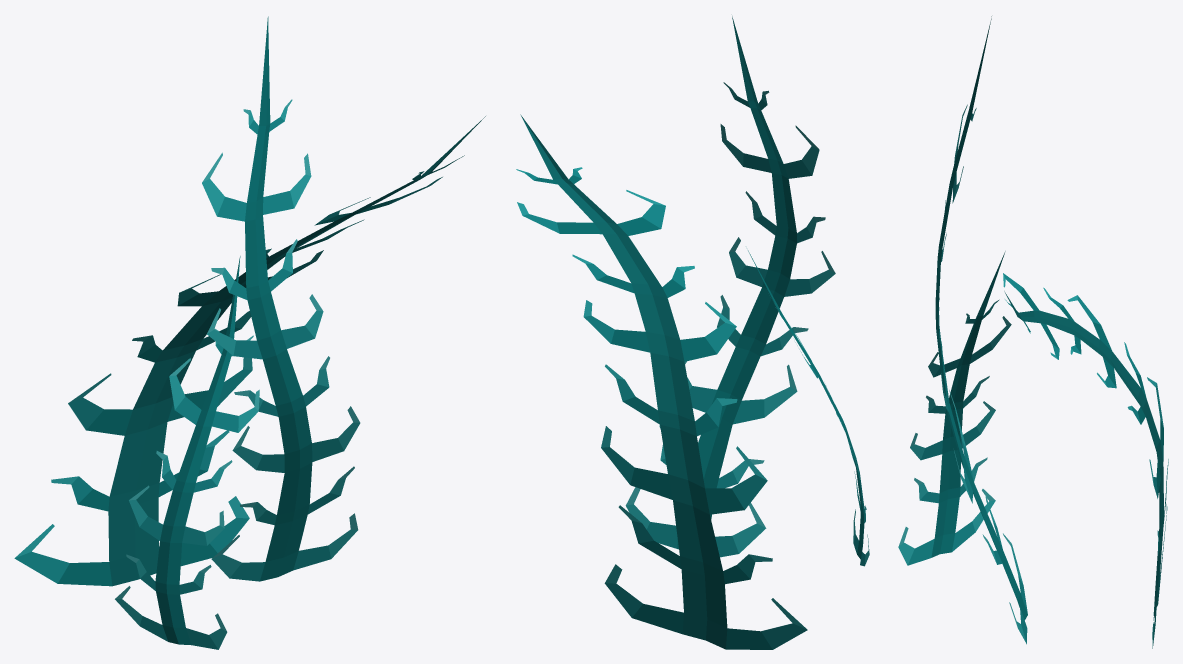
The model's file is CS_Plant_25_L1.fbx.
3 renders of one model, left to right at view 1: azimuth 30°, elevation 25°; view 2: azimuth 150°, elevation 25°; view 3: azimuth 270°, elevation 25°, orthographic. The views are drawn at different scales.
Parts seen in each view (by area): view 1: Plant_25_L1_c, Plant_25_L1_a, Plant_25_L1_b; view 2: Plant_25_L1_a, Plant_25_L1_c, Plant_25_L1_b; view 3: Plant_25_L1_b, Plant_25_L1_a, Plant_25_L1_c.
Boxes of the visible parts, x1,y1,x2,y2 form: Plant_25_L1_c: (202, 16, 360, 581); Plant_25_L1_a: (14, 116, 485, 586); Plant_25_L1_b: (115, 256, 259, 649); Plant_25_L1_a: (516, 114, 807, 649); Plant_25_L1_c: (625, 16, 835, 557); Plant_25_L1_b: (748, 250, 869, 566); Plant_25_L1_b: (898, 251, 1011, 565); Plant_25_L1_a: (1003, 273, 1168, 648); Plant_25_L1_c: (935, 16, 1027, 644).
Size of the model in its own units: 0.2467 by 0.3676 by 0.1435.
